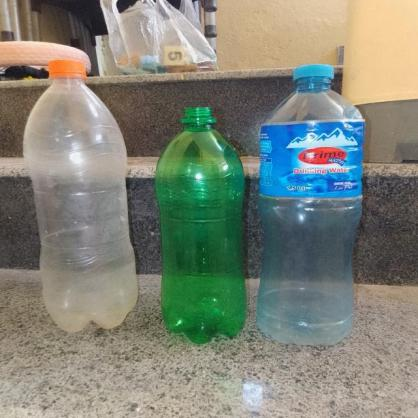bottle: (257, 58, 388, 350), (17, 52, 144, 336), (148, 93, 250, 343)
cap: (45, 57, 90, 80), (289, 63, 340, 83)
label: (258, 121, 370, 202)
